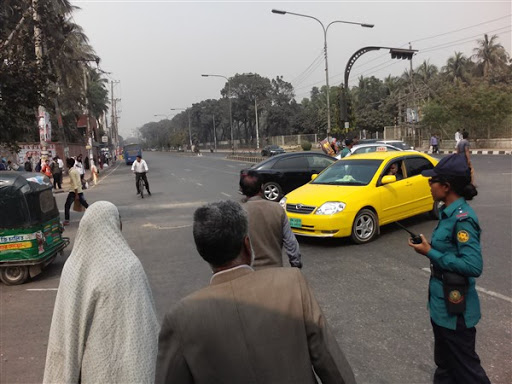bicycle: (134, 171, 148, 199)
bus: (123, 143, 143, 163)
car: (238, 149, 334, 192), (260, 145, 283, 155)
taxi: (279, 151, 432, 241)
three wheelers (CNG): (1, 171, 70, 284)
